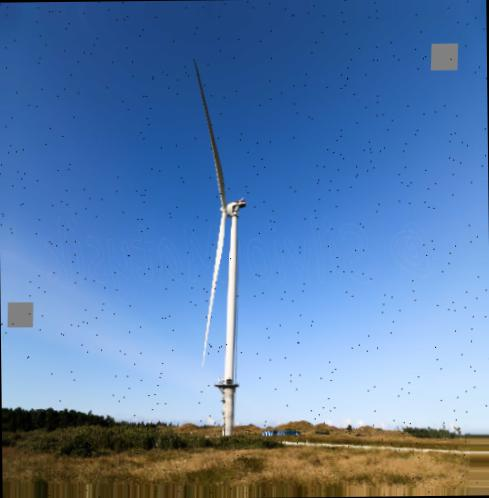wind turbine: (191, 54, 249, 439)
